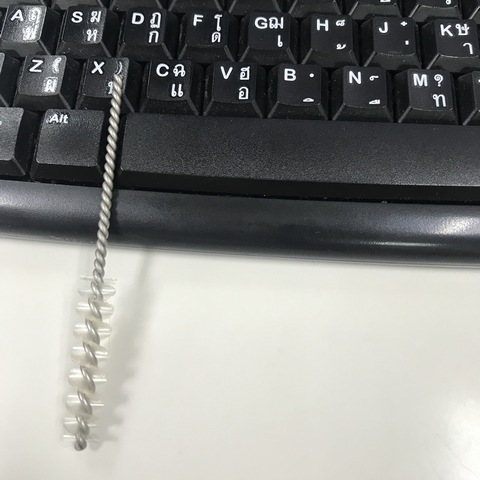Twist Brush-B: (56, 70, 122, 453)
